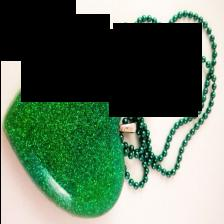green: (3, 39, 126, 218)
